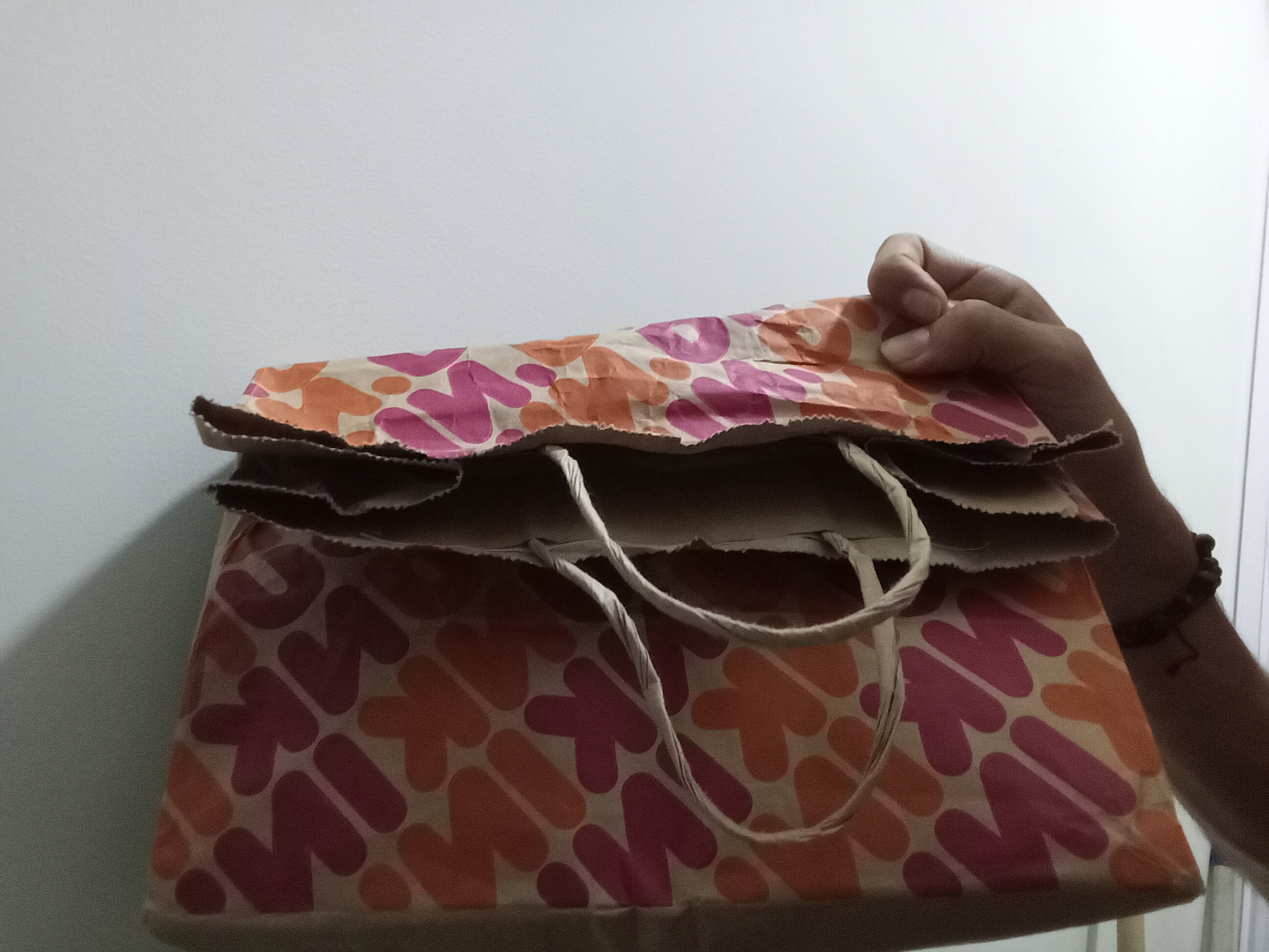Carton: (142, 295, 1208, 945)
